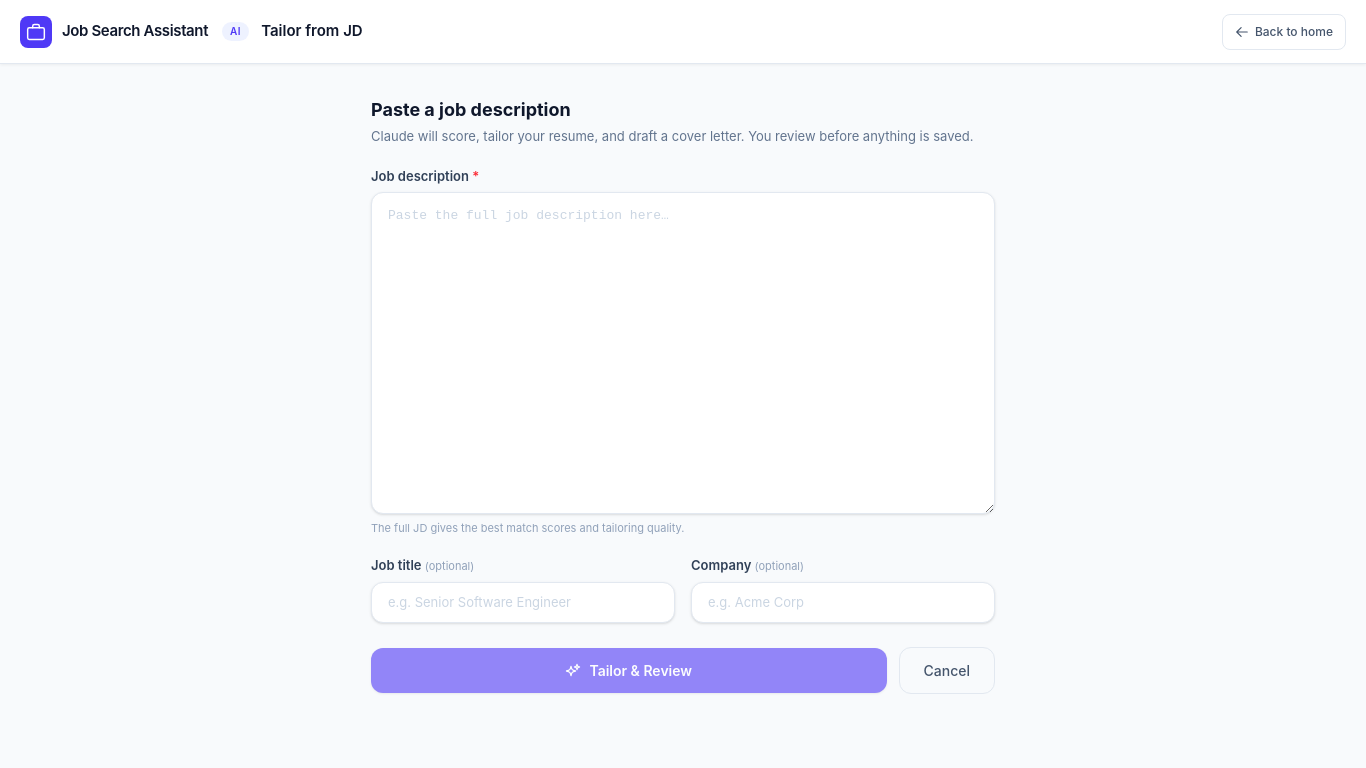
Test case: PasteJDPage › renders an error banner when the mutation fails
In the text box labelled "Job description *": (683, 353) [371, 192, 995, 514], type "A JD"
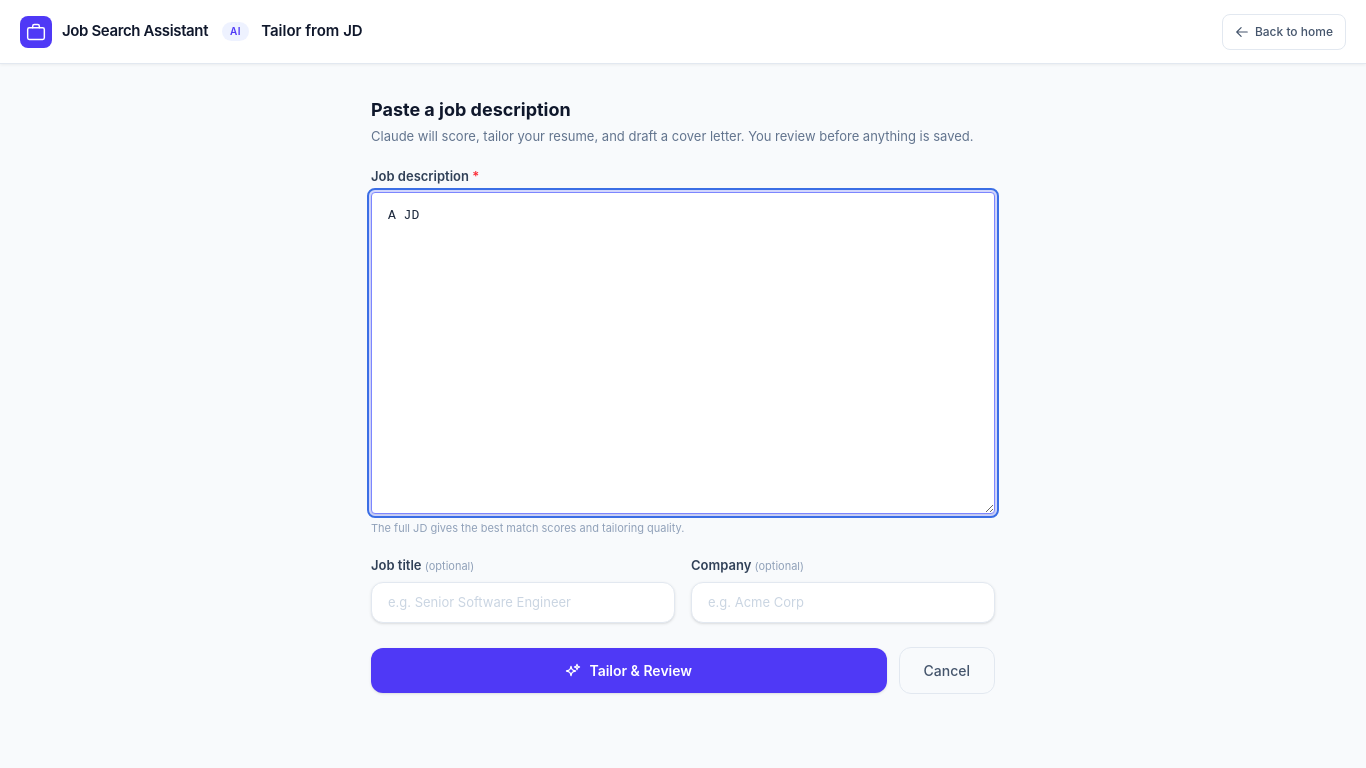
Click the button "Tailor & Review": (629, 671) [371, 648, 886, 693]
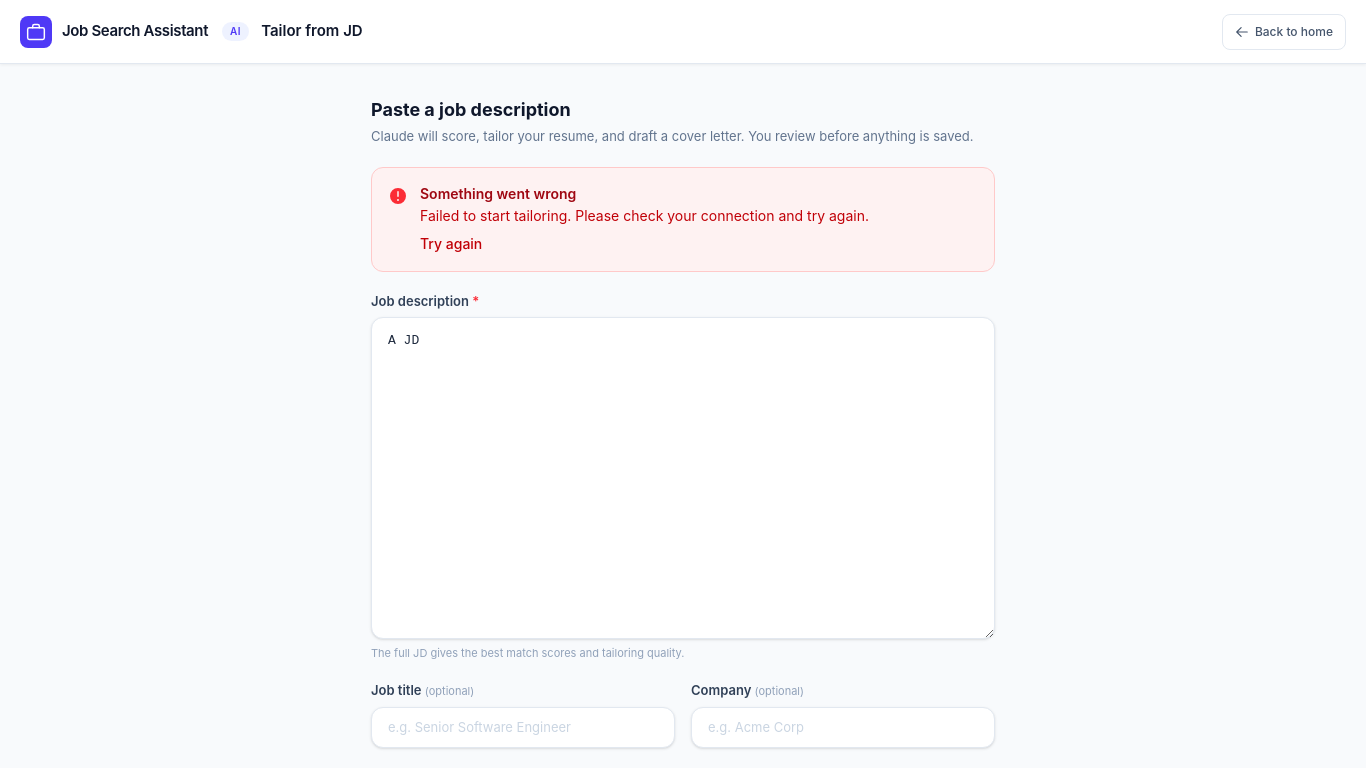
expect the message is shown: met, box [371, 166, 995, 272]
